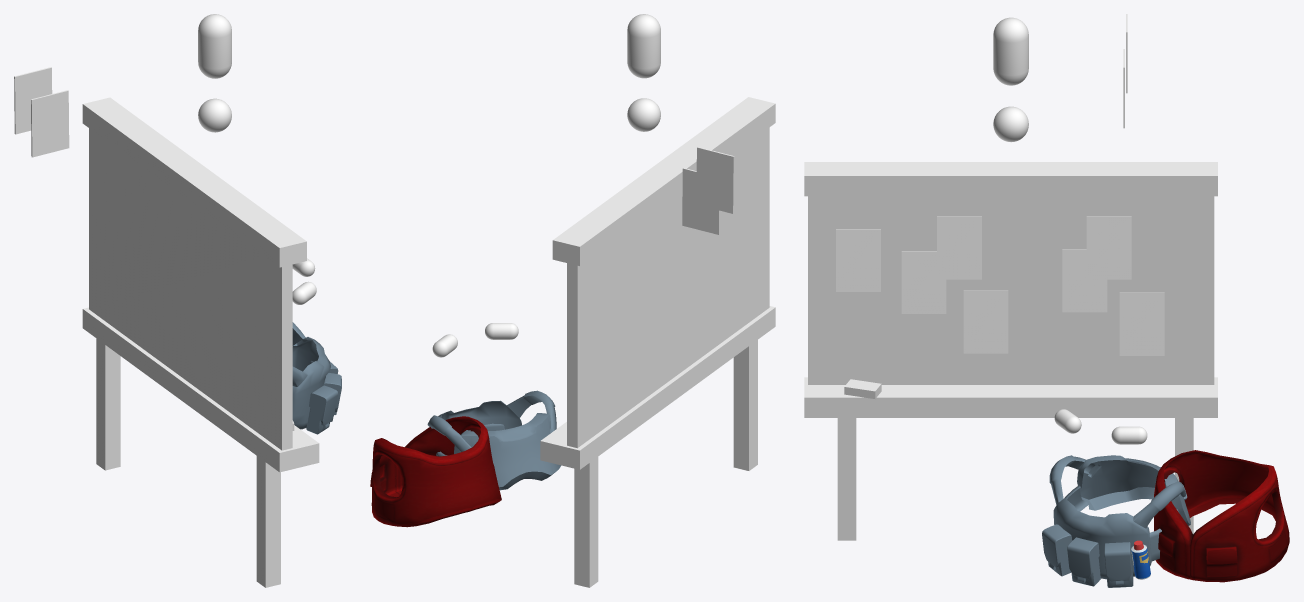
File: QuestGiver_Jeff.fbx
The picture shows the model from 3 angles, left to right: view 1: azimuth 30°, elevation 25°; view 2: azimuth 150°, elevation 25°; view 3: azimuth 270°, elevation 25°; orthographic projection. The views are drawn at different scales.
Parts seen in each view (by area): view 1: White 2, Floor, Mat_Clothes_LV2 1, White, QuestMarker, LoadingScreenRock; view 2: White 2, Floor, Mat_Clothes_LV1 1, Mat_Clothes_LV2 1, White, QuestMarker, LoadingScreenRock; view 3: White 2, Floor, White, Mat_Clothes_LV1 1, Mat_Clothes_LV2 1, QuestMarker, Yellow, Red, LoadingScreenRock.
Part boxes in pixels (x1,y1,x2,y2): White 2: (89, 128, 292, 450); Floor: (82, 97, 319, 587); Mat_Clothes_LV2 1: (292, 322, 341, 434); White: (14, 67, 69, 157); QuestMarker: (198, 14, 231, 132); LoadingScreenRock: (292, 258, 316, 304); White 2: (567, 127, 769, 448); Floor: (540, 97, 775, 587); Mat_Clothes_LV1 1: (370, 416, 501, 527); Mat_Clothes_LV2 1: (427, 390, 561, 490); White: (682, 147, 734, 234); QuestMarker: (627, 14, 660, 131); LoadingScreenRock: (432, 323, 518, 357); White 2: (808, 196, 1214, 384); Floor: (804, 162, 1217, 540); White: (836, 14, 1164, 355); Mat_Clothes_LV1 1: (1154, 450, 1289, 582); Mat_Clothes_LV2 1: (1042, 455, 1190, 587); QuestMarker: (993, 17, 1028, 142); Yellow: (1086, 216, 1131, 279); Red: (963, 290, 1008, 353); LoadingScreenRock: (1054, 409, 1147, 444).
Bounding box in the file's own units: 1.71 × 2.62 × 2.18.
Materials: 11 (11 with a texture image).
